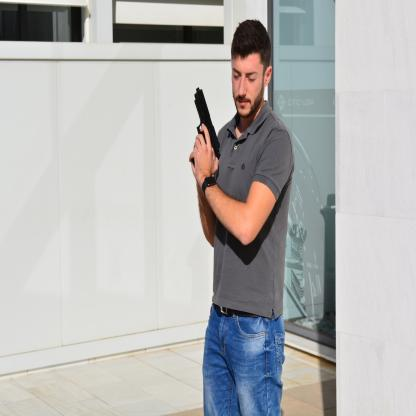pistol: (191, 86, 220, 168)
